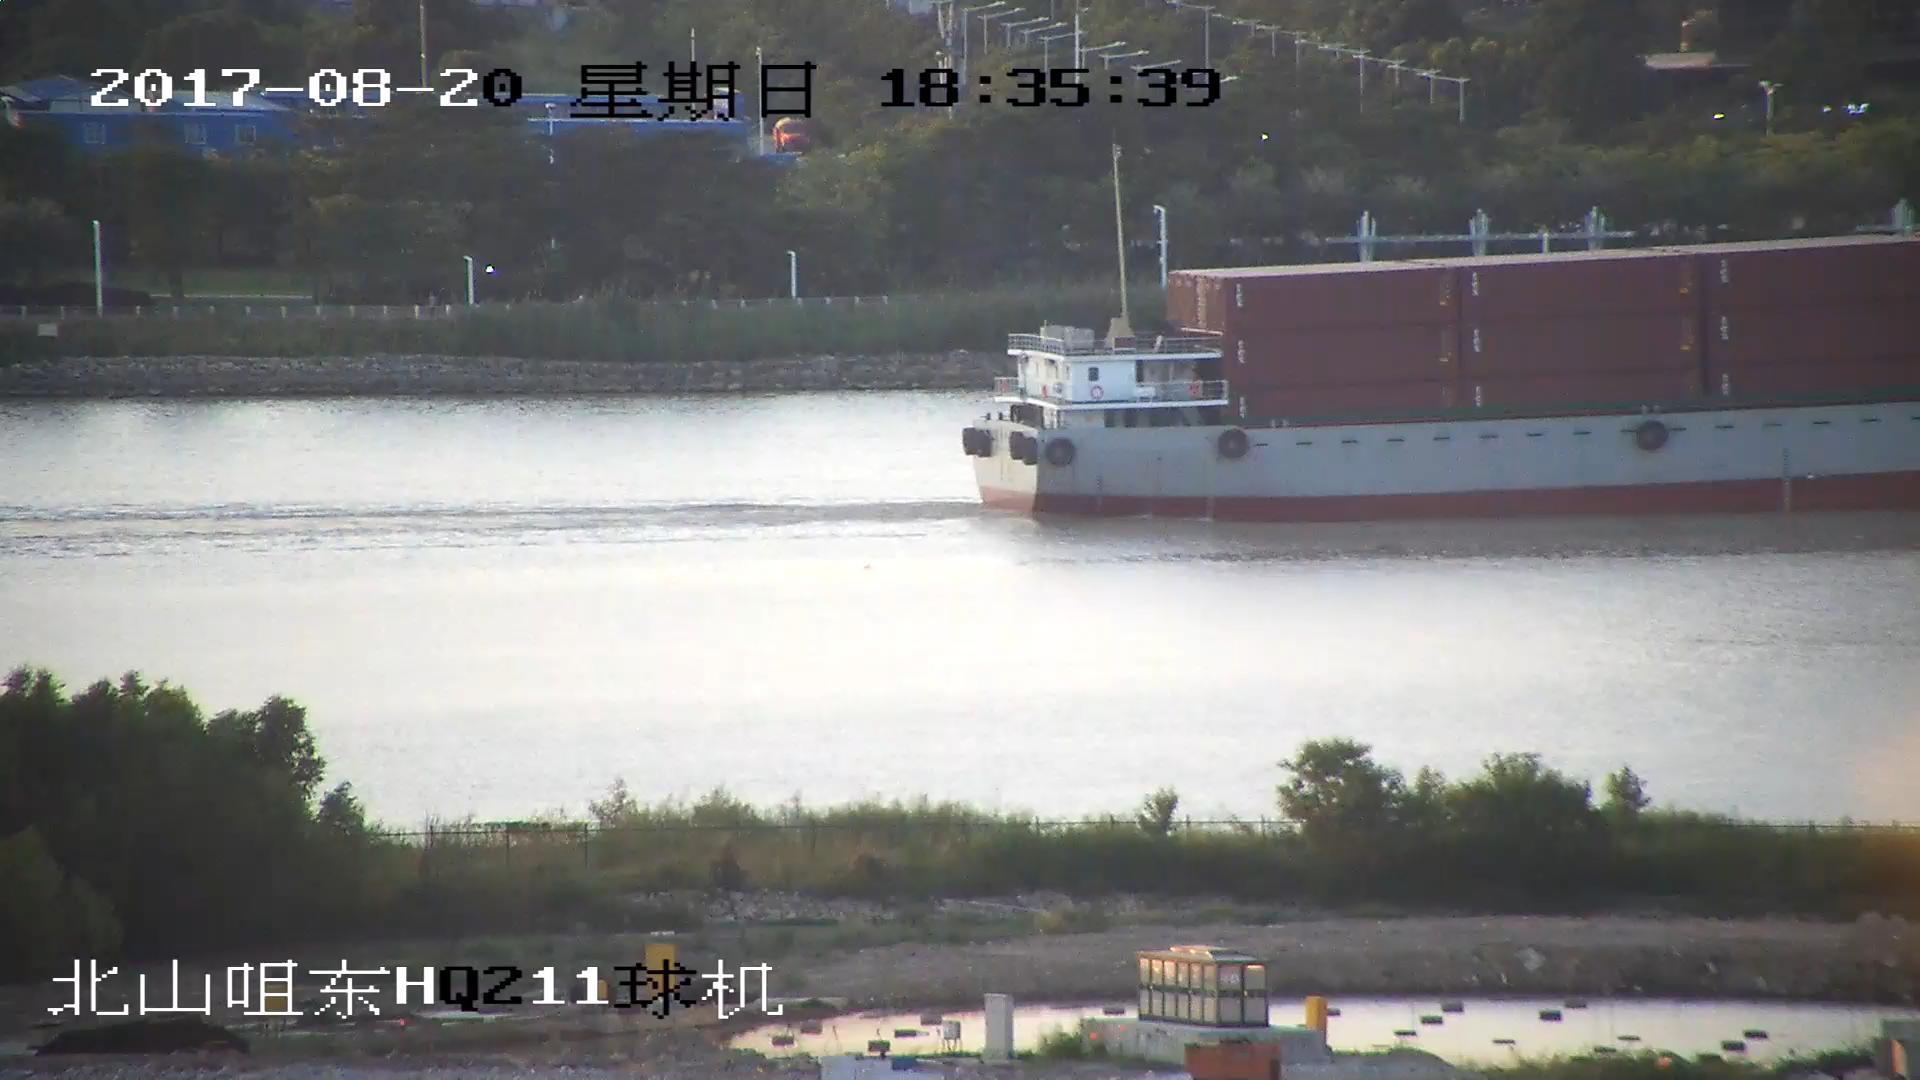Ship: (957, 237, 1920, 524)
